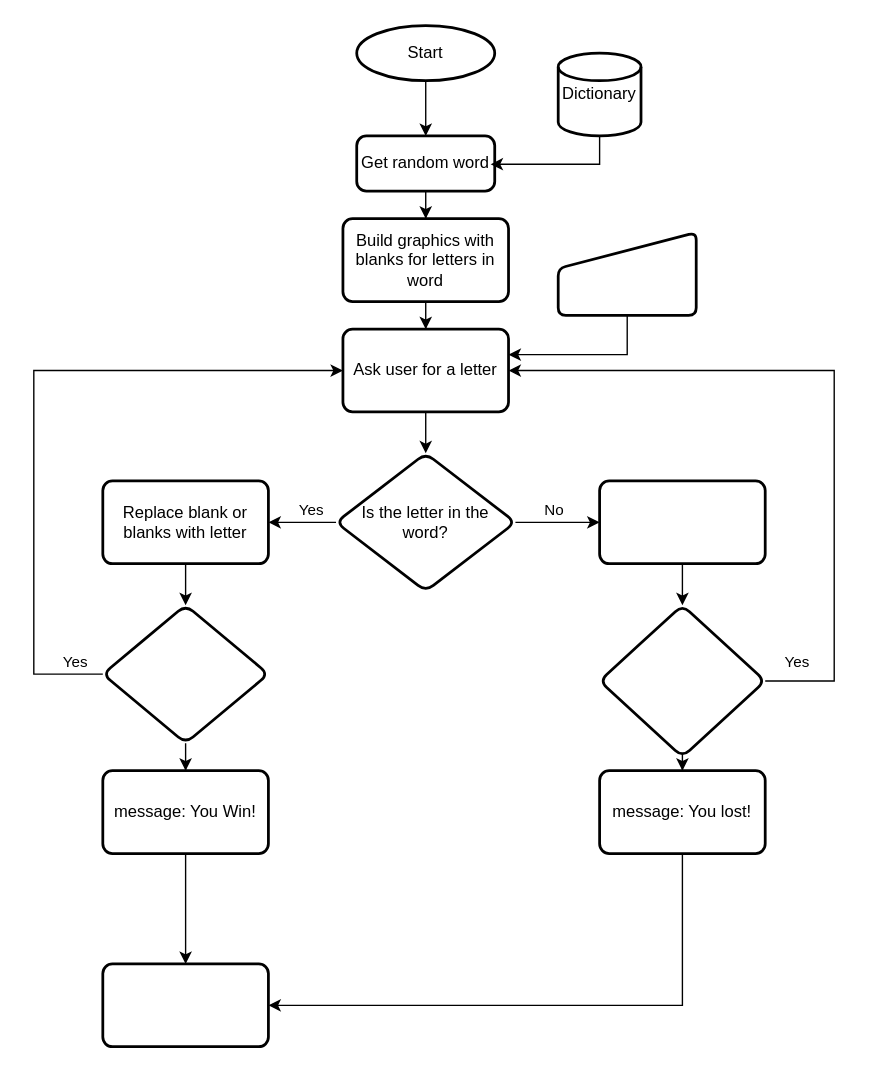
Some shapes in this 869 by 1071 pixel diagram are drawn without their labels. The centre of each missing label's shape, as x and y in pixels:
Are there any more blanks?: pixel 185 673
Are thre any more lifes left?: pixel 682 680
Game Over: pixel 185 1004
Loose a life: pixel 682 521
User Input: pixel 626 273
